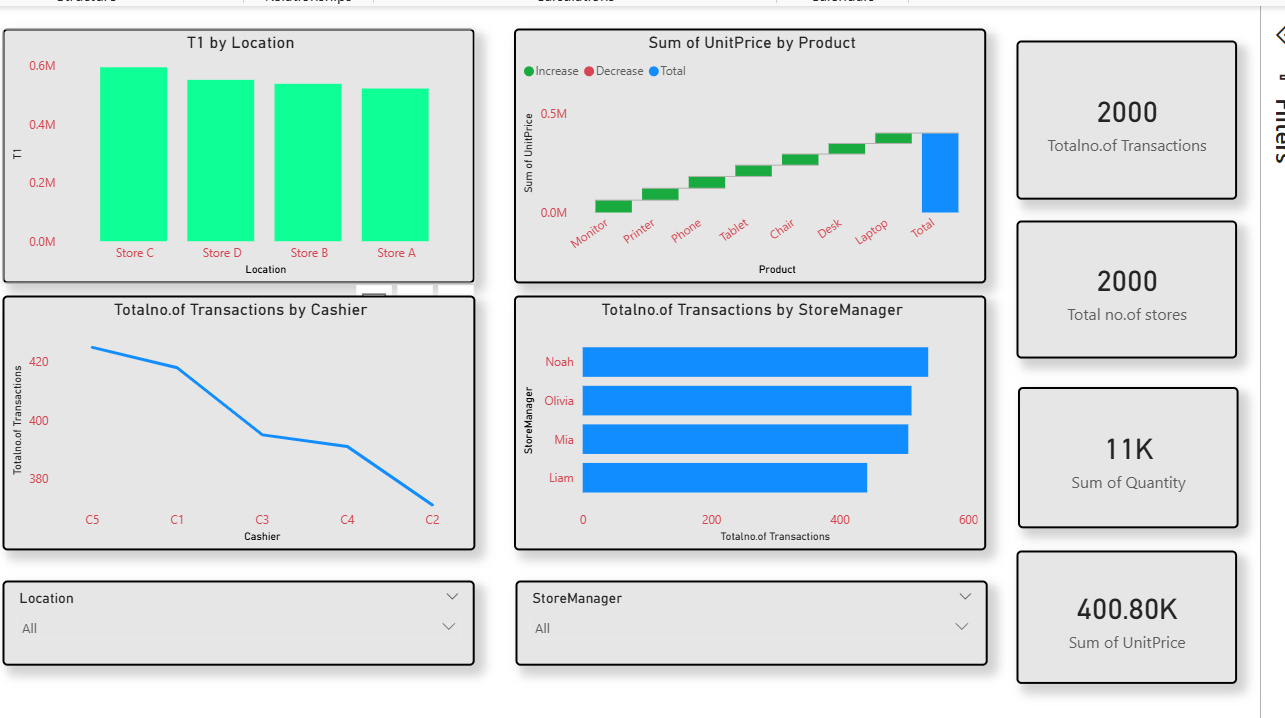

The dashboard page shown, as its layout file describes it:
{"tool":"powerbi","page":{"name":"Page 3","canvas":[1280,720],"ordinal":2},"visuals":[{"type":"lineStackedColumnComboChart","fields":{"Category":["Sheet1.Location"],"Y":["Sheet1.T1"]},"box":[10.6,22.7,477,257.4],"z":0},{"type":"lineChart","fields":{"Category":["Sheet1.Cashier"],"Y":["Sheet1.Totalno.of Transactions"]},"box":[11,291.5,477,257],"z":1000},{"type":"waterfallChart","fields":{"Category":["Sheet1.Product"],"Y":["Sum(Sheet1.UnitPrice)"]},"box":[526.9,22.7,477,257.4],"z":2000},{"type":"clusteredBarChart","fields":{"Category":["Sheet1.StoreManager"],"Y":["Sheet1.Totalno.of Transactions"]},"box":[526.9,292.2,477,257.4],"z":3000},{"type":"card","fields":{"Values":["Sheet1.Totalno.of Transactions"]},"box":[1034.2,34.8,222.6,160.5],"z":4000},{"type":"card","fields":{"Values":["Sheet1.Total no.of stores"]},"box":[1034.2,216.5,222.6,139.3],"z":5000},{"type":"slicer","fields":{"Values":["Sheet1.Location"]},"box":[10.6,579.9,477,86.3],"z":6000},{"type":"slicer","fields":{"Values":["Sheet1.StoreManager"]},"box":[528.5,579.9,477,86.3],"z":7000},{"type":"card","fields":{"Values":["Sum(Sheet1.Quantity)"]},"box":[1035.7,384.6,222.6,142.3],"z":8000},{"type":"card","fields":{"Values":["Sum(Sheet1.UnitPrice)"]},"box":[1034.2,549.7,222.6,134.8],"z":9000}]}

Visuals, with their boxes in screenshot pixels (x1, y1, x2, y2):
lineStackedColumnComboChart - Sheet1.Location x Sheet1.T1: 4:29:474:283
lineChart - Sheet1.Cashier x Sheet1.Totalno.of Transactions: 4:294:474:547
waterfallChart - Sheet1.Product x Sum(Sheet1.UnitPrice): 513:29:983:283
clusteredBarChart - Sheet1.StoreManager x Sheet1.Totalno.of Transactions: 513:295:983:548
card - Sheet1.Totalno.of Transactions: 1012:41:1232:199
card - Sheet1.Total no.of stores: 1012:220:1232:357
slicer - Sheet1.Location: 4:578:474:663
slicer - Sheet1.StoreManager: 514:578:984:663
card - Sum(Sheet1.Quantity): 1014:386:1233:526
card - Sum(Sheet1.UnitPrice): 1012:548:1232:681
